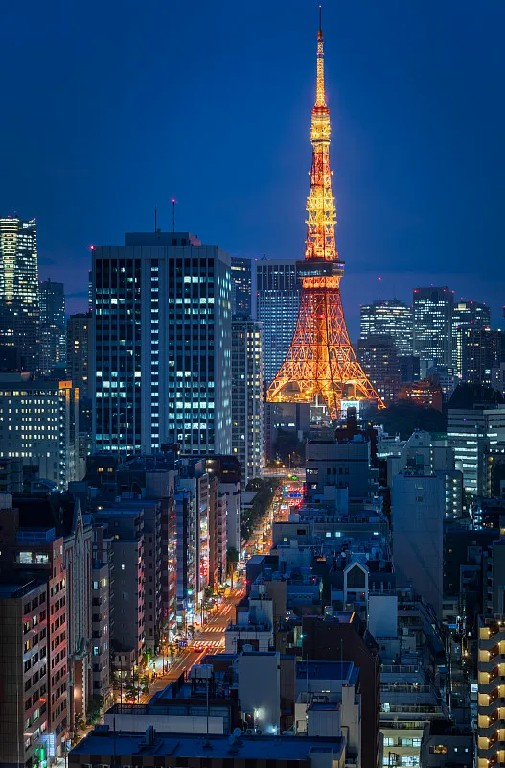Tokyo: (262, 1, 385, 408)
